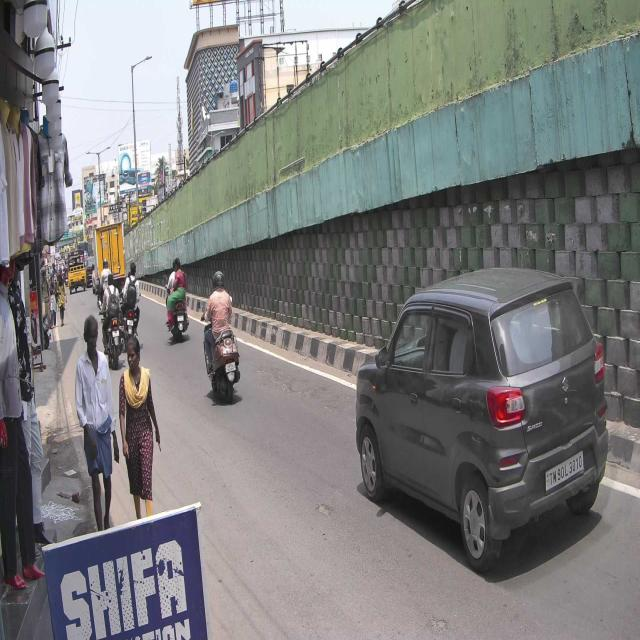single_rider: (200, 270, 240, 404)
